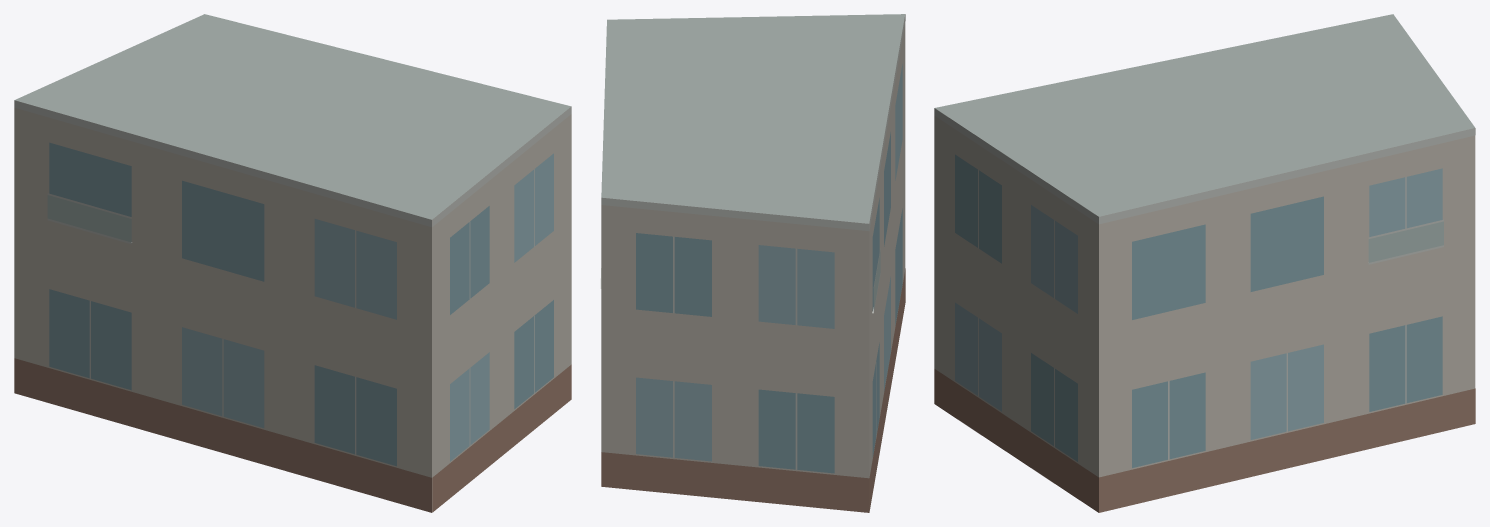
The model's file is survey-upis-32829307.glb.
The picture shows the model from 3 angles, left to right: view 1: azimuth 30°, elevation 25°; view 2: azimuth 150°, elevation 25°; view 3: azimuth 270°, elevation 25°; orthographic projection. The views are drawn at different scales.
Parts seen in each view (by area): view 1: survey-upis-32829307.tmp; view 2: survey-upis-32829307.tmp; view 3: survey-upis-32829307.tmp.
Boxes of the visible parts, x1,y1,x2,y2 form: survey-upis-32829307.tmp: [14, 14, 571, 512]; survey-upis-32829307.tmp: [600, 14, 905, 512]; survey-upis-32829307.tmp: [934, 14, 1475, 512].
Size of the model in its own units: 14.12 by 9.6 by 15.91.
